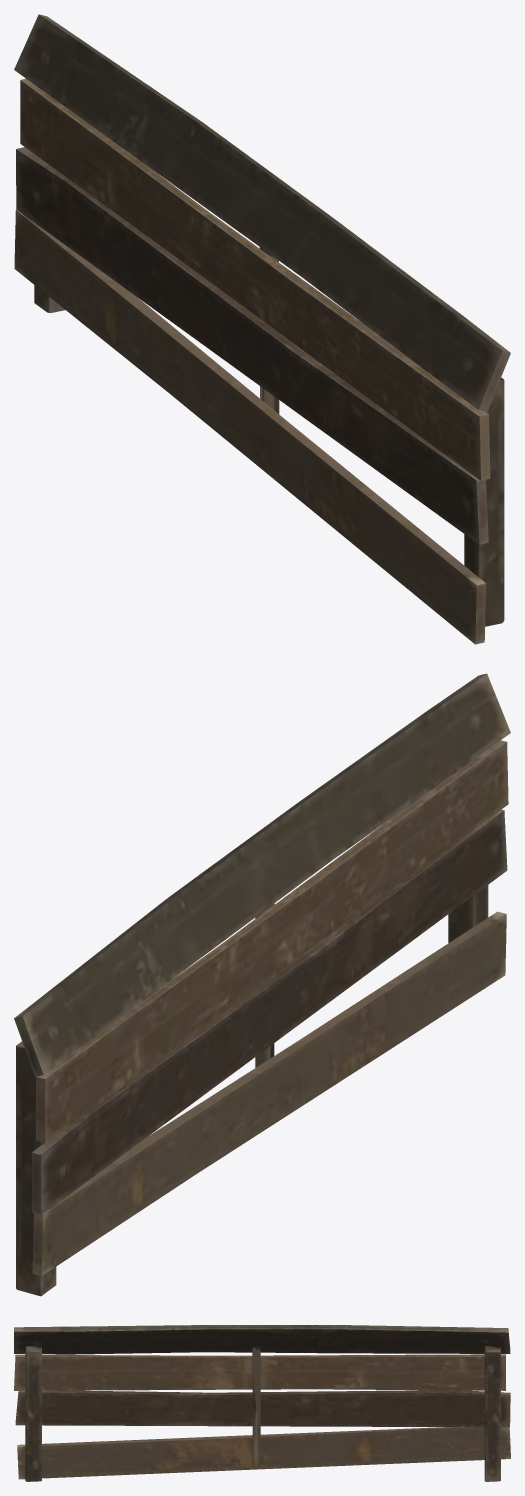
The model's file is foundation.frontier.wall_variant_a.glb.
3 renders of one model, top to bottom at view 1: azimuth 30°, elevation 25°; view 2: azimuth 150°, elevation 25°; view 3: azimuth 270°, elevation 25°, orthographic. The views are drawn at different scales.
Parts seen in each view (by area): view 1: model; view 2: model; view 3: model.
Boxes of the visible parts, x1,y1,x2,y2 form: model: [14, 14, 510, 644]; model: [14, 673, 510, 1296]; model: [14, 1325, 510, 1481].
Bounding box in the file's own units: 0.1394 × 1.05 × 3.01.
Materials: 1 (1 with a texture image).
